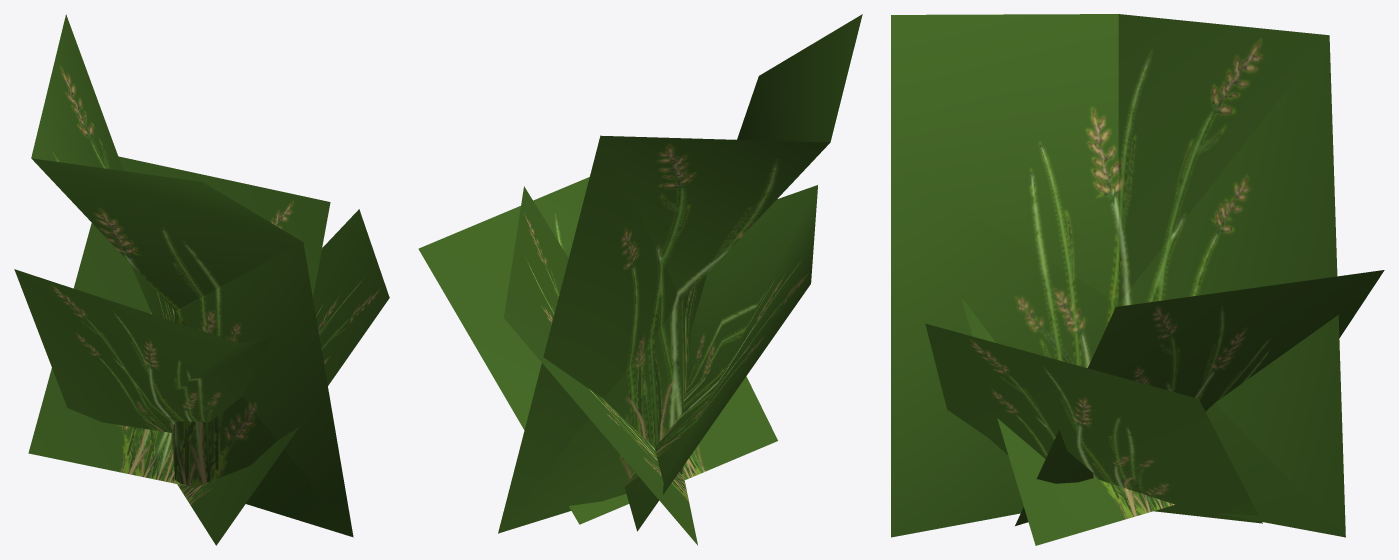
File: leafplant3_lod1.fbx
The picture shows the model from 3 angles, left to right: view 1: azimuth 30°, elevation 25°; view 2: azimuth 150°, elevation 25°; view 3: azimuth 270°, elevation 25°; orthographic projection. The views are drawn at different scales.
Parts seen in each view (by area): view 1: Mesh Object; view 2: Mesh Object; view 3: Mesh Object.
Part boxes in pixels (left/top/right/bottom): Mesh Object: left=14, top=14, right=389, bottom=545; Mesh Object: left=418, top=14, right=862, bottom=545; Mesh Object: left=891, top=14, right=1384, bottom=545.
Size of the model in its own units: 1.2 by 1.29 by 1.25.
